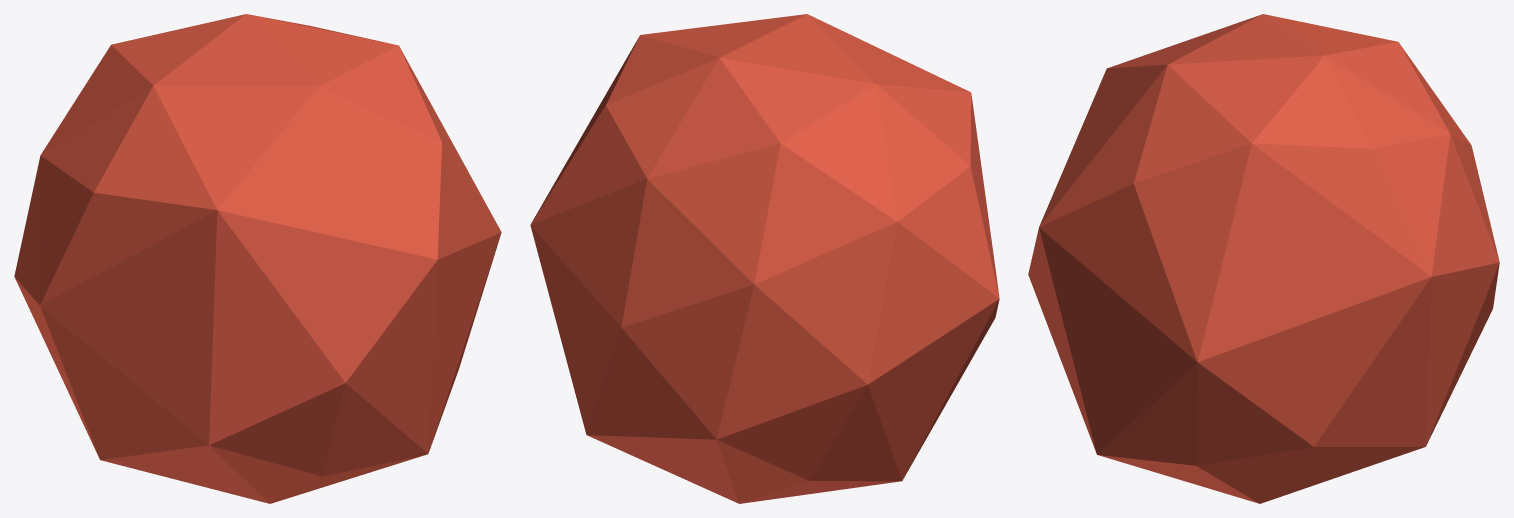
Rendered from EA03_Items_House_Apple_01a.glb.
The picture shows the model from 3 angles, left to right: view 1: azimuth 30°, elevation 25°; view 2: azimuth 150°, elevation 25°; view 3: azimuth 270°, elevation 25°; orthographic projection. The views are drawn at different scales.
Visible parts, largest first — view 1: EA03_Items_House_Apple_01a; view 2: EA03_Items_House_Apple_01a; view 3: EA03_Items_House_Apple_01a.
Part boxes in pixels (bbox=[...]): EA03_Items_House_Apple_01a: bbox=[14, 14, 501, 503]; EA03_Items_House_Apple_01a: bbox=[530, 14, 999, 503]; EA03_Items_House_Apple_01a: bbox=[1028, 14, 1499, 503].
Size of the model in its own units: 0.1929 by 0.1823 by 0.1842.
1 material, 1 textured.
